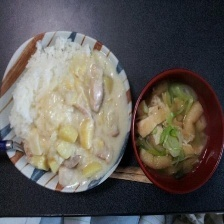rice: (6, 42, 77, 135)
